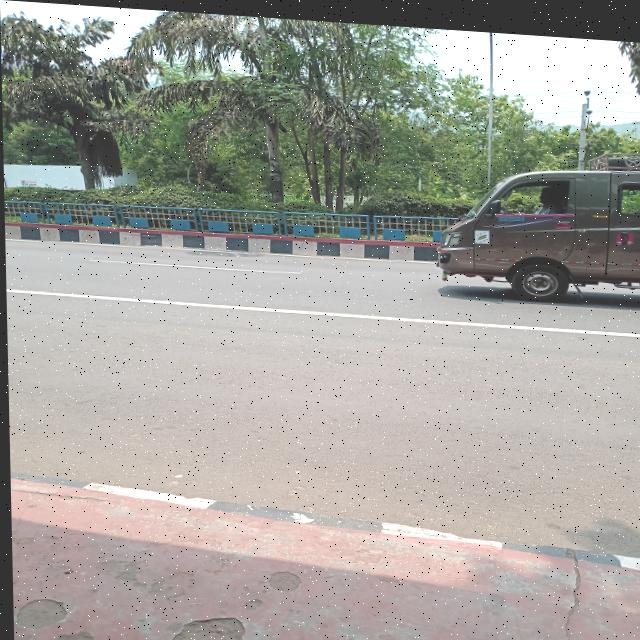car: (426, 137, 640, 302)
